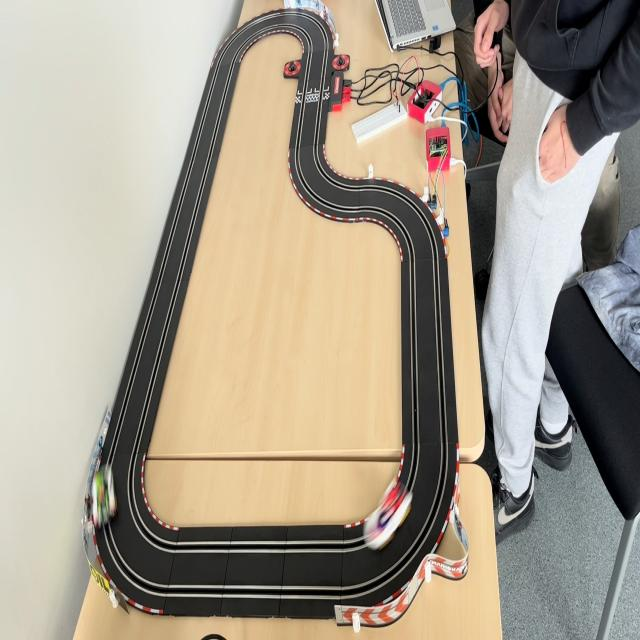mario: (361, 478, 415, 556)
yoshi: (94, 464, 118, 530)
